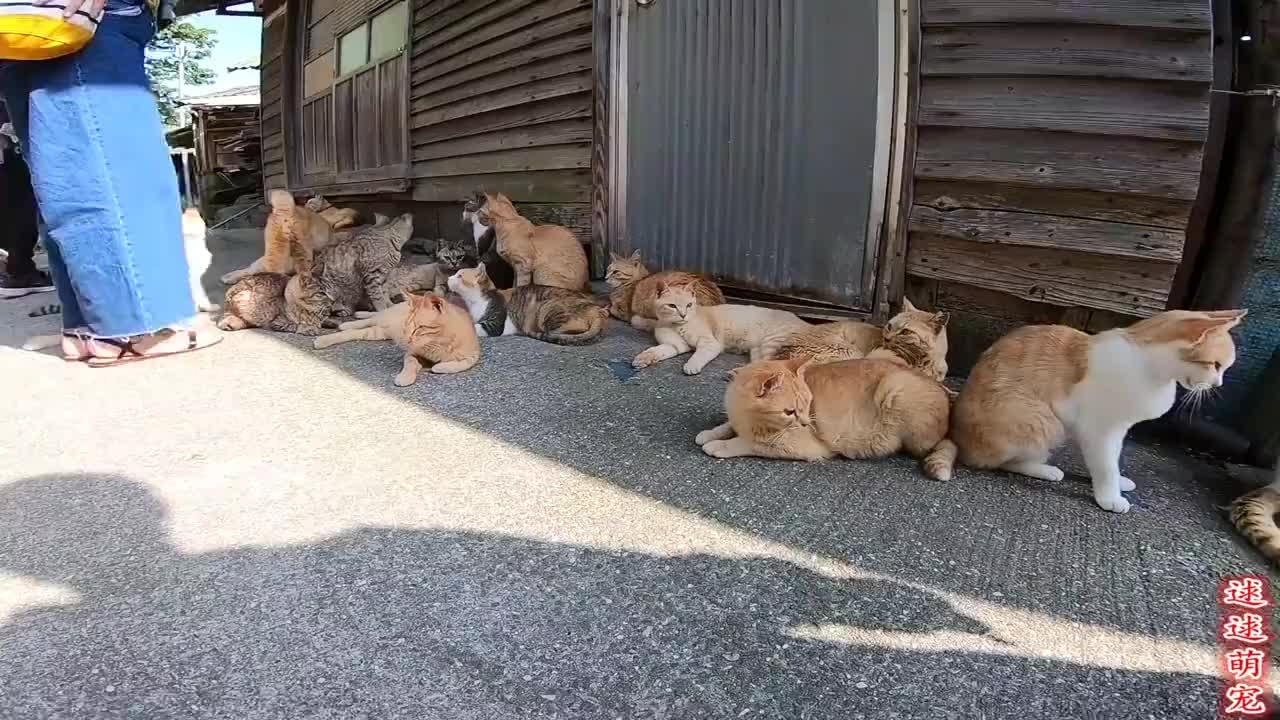cat: (951, 306, 1247, 516), (691, 358, 949, 461), (630, 280, 812, 374), (312, 289, 480, 387), (773, 297, 952, 384), (447, 261, 606, 346), (477, 193, 591, 292), (603, 248, 725, 332), (318, 211, 414, 313), (217, 262, 334, 336), (263, 188, 335, 275), (461, 194, 517, 289), (179, 204, 215, 311), (405, 239, 465, 295), (305, 190, 362, 230)
